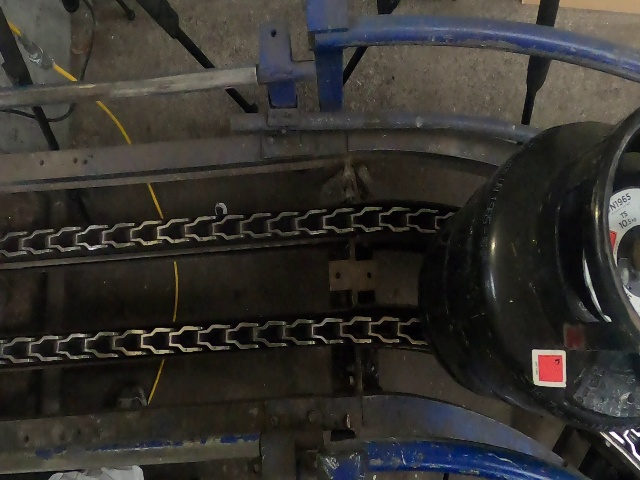gas_bottle: (0, 10, 637, 475)
